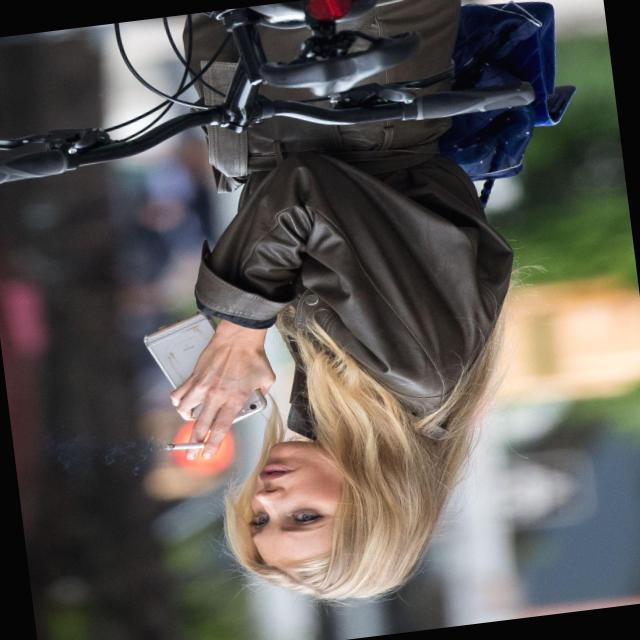smoke: (144, 422, 220, 462)
